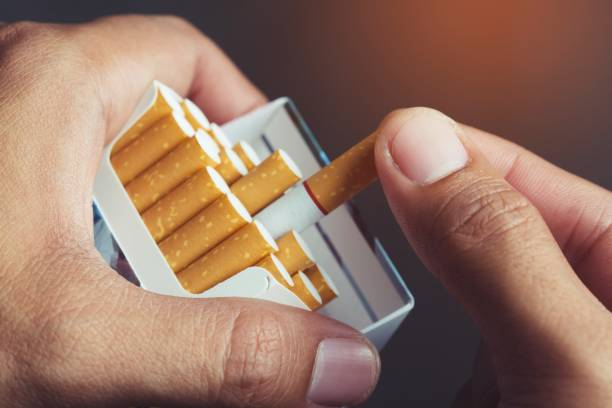cigarette: (91, 77, 416, 355), (258, 129, 380, 240), (121, 133, 221, 212), (155, 191, 252, 271), (176, 219, 278, 293), (108, 111, 196, 188), (139, 164, 228, 240), (107, 86, 186, 158), (231, 147, 303, 215), (274, 228, 315, 276), (289, 269, 322, 310), (257, 252, 293, 289), (305, 265, 338, 304), (216, 148, 248, 185), (182, 99, 212, 132), (207, 122, 230, 153), (236, 142, 260, 168)
